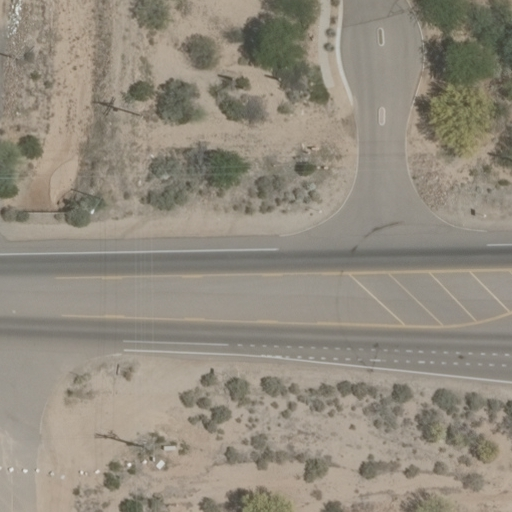TT: (133, 431, 161, 463), (129, 103, 157, 127)
